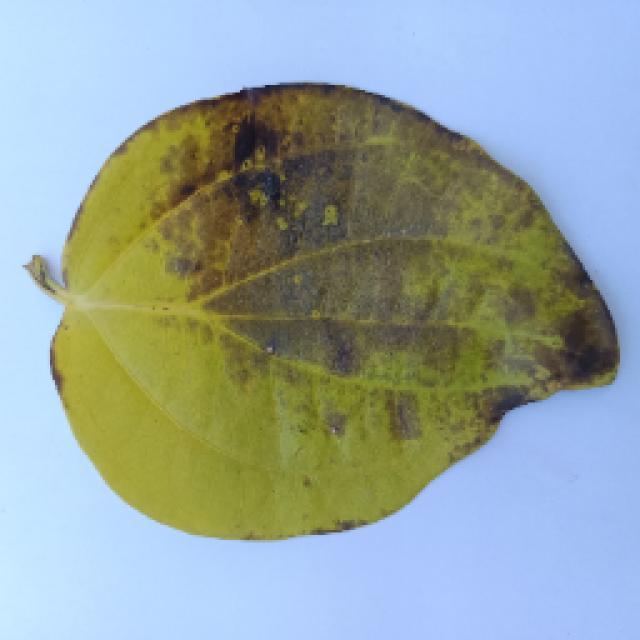slow-decline: (10, 95, 618, 565)
